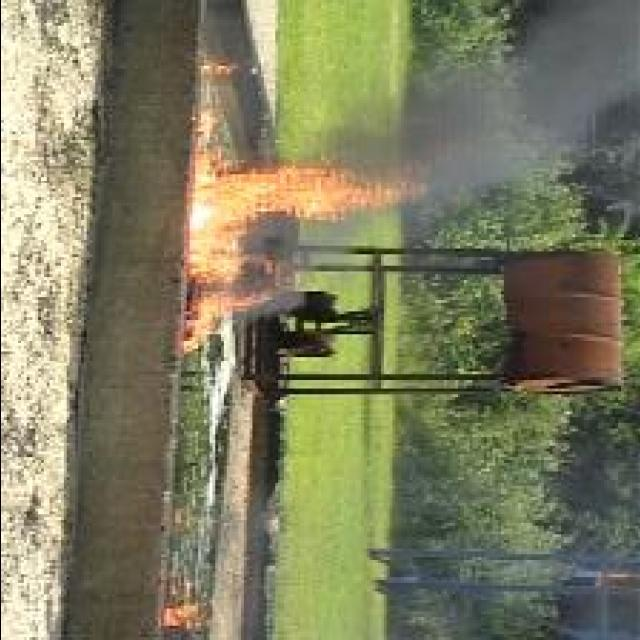Fire: (187, 109, 424, 282), (181, 288, 273, 354)
